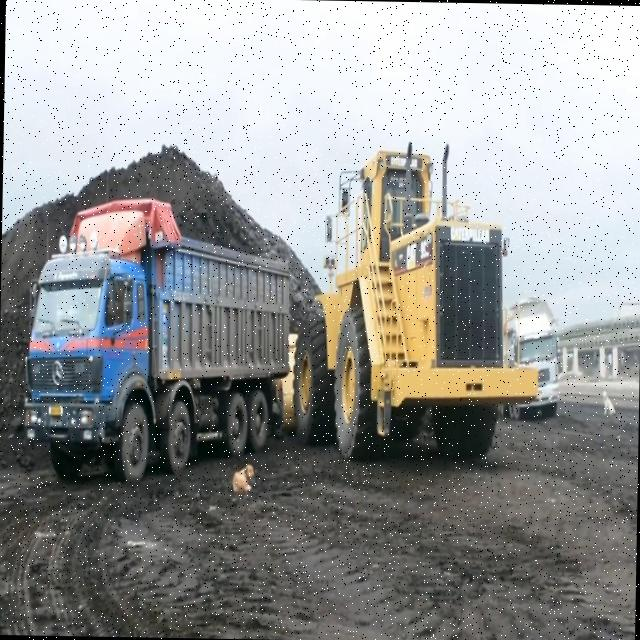Dump Truck: (19, 190, 292, 482), (502, 295, 564, 418)
Loader: (292, 132, 546, 464)
